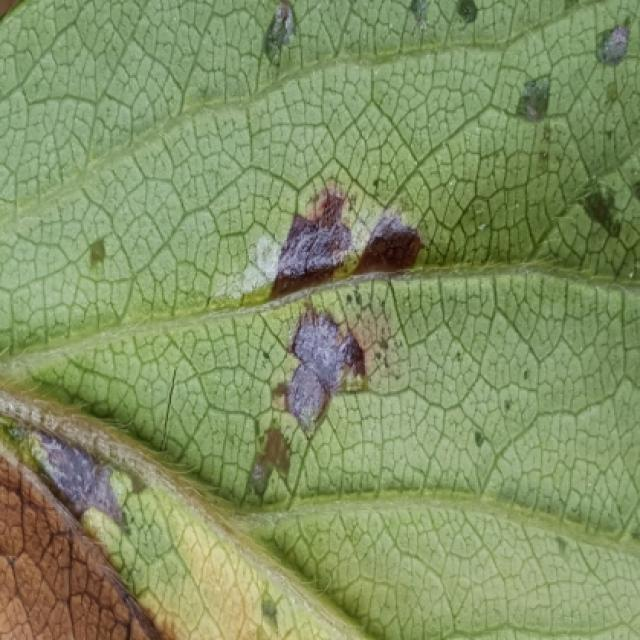Angular Leafspot: (0, 0, 638, 638)
